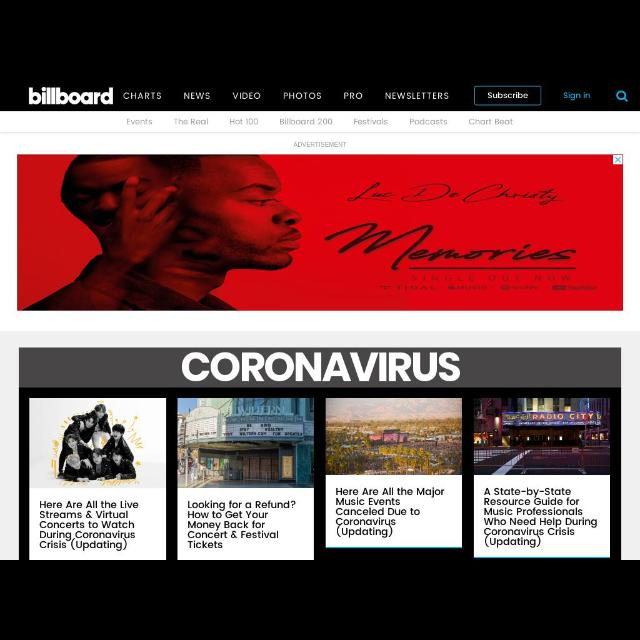icon: (615, 91, 629, 103)
iframe: (17, 154, 623, 310)
image: (178, 398, 314, 488), (31, 398, 166, 487), (474, 398, 610, 474), (326, 398, 460, 474), (28, 85, 114, 106)
multitab: (1, 111, 639, 132)
text: (180, 352, 460, 382), (484, 487, 598, 548), (187, 500, 296, 550), (336, 487, 444, 537), (40, 501, 138, 552), (278, 116, 334, 128), (384, 91, 448, 101), (470, 117, 514, 127), (122, 91, 162, 101), (282, 91, 322, 101), (408, 117, 448, 127), (172, 117, 210, 127), (487, 92, 529, 100), (352, 118, 390, 126), (184, 91, 212, 101), (563, 90, 591, 100), (125, 117, 153, 127), (232, 92, 262, 100), (228, 118, 258, 126), (342, 92, 362, 100)
textbutton: (475, 86, 541, 104)
